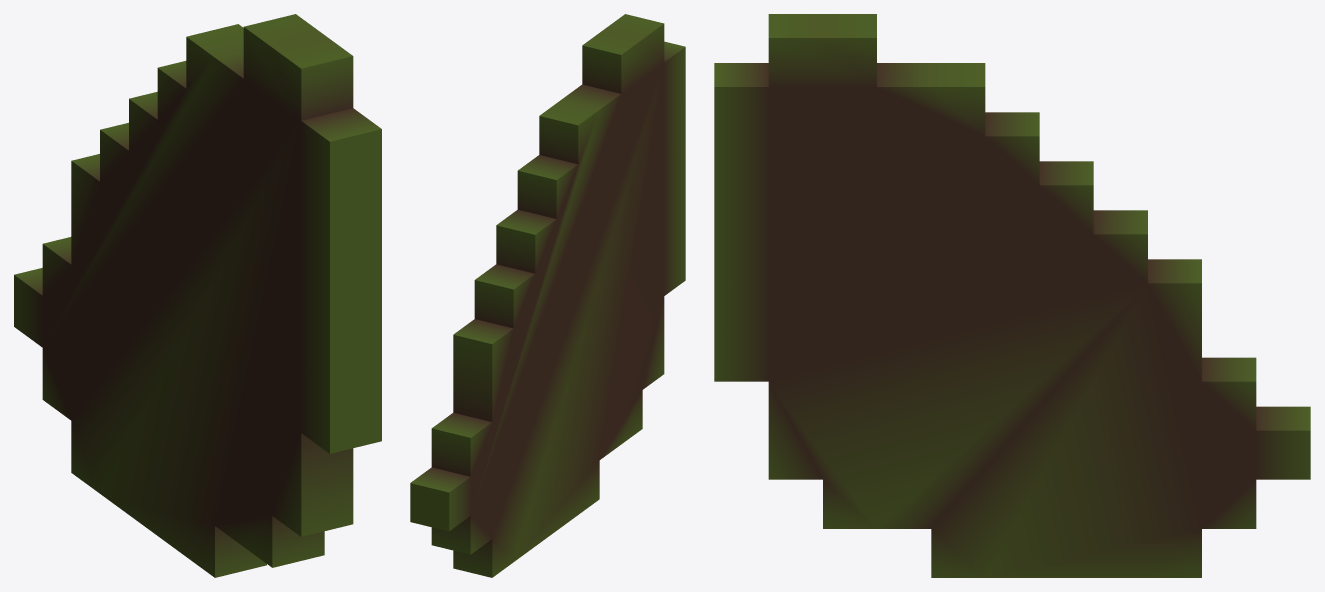
The picture shows the model from 3 angles, left to right: view 1: azimuth 30°, elevation 25°; view 2: azimuth 150°, elevation 25°; view 3: azimuth 270°, elevation 25°; orthographic projection. The views are drawn at different scales.
Visible parts, largest first — view 1: rind; view 2: rind; view 3: rind.
Part boxes in pixels (left/top/right/bottom): rind: left=14, top=14, right=381, bottom=577; rind: left=410, top=14, right=685, bottom=577; rind: left=714, top=14, right=1310, bottom=577.
Bounding box in the file's own units: 0.0191 × 0.2 × 0.2001.
